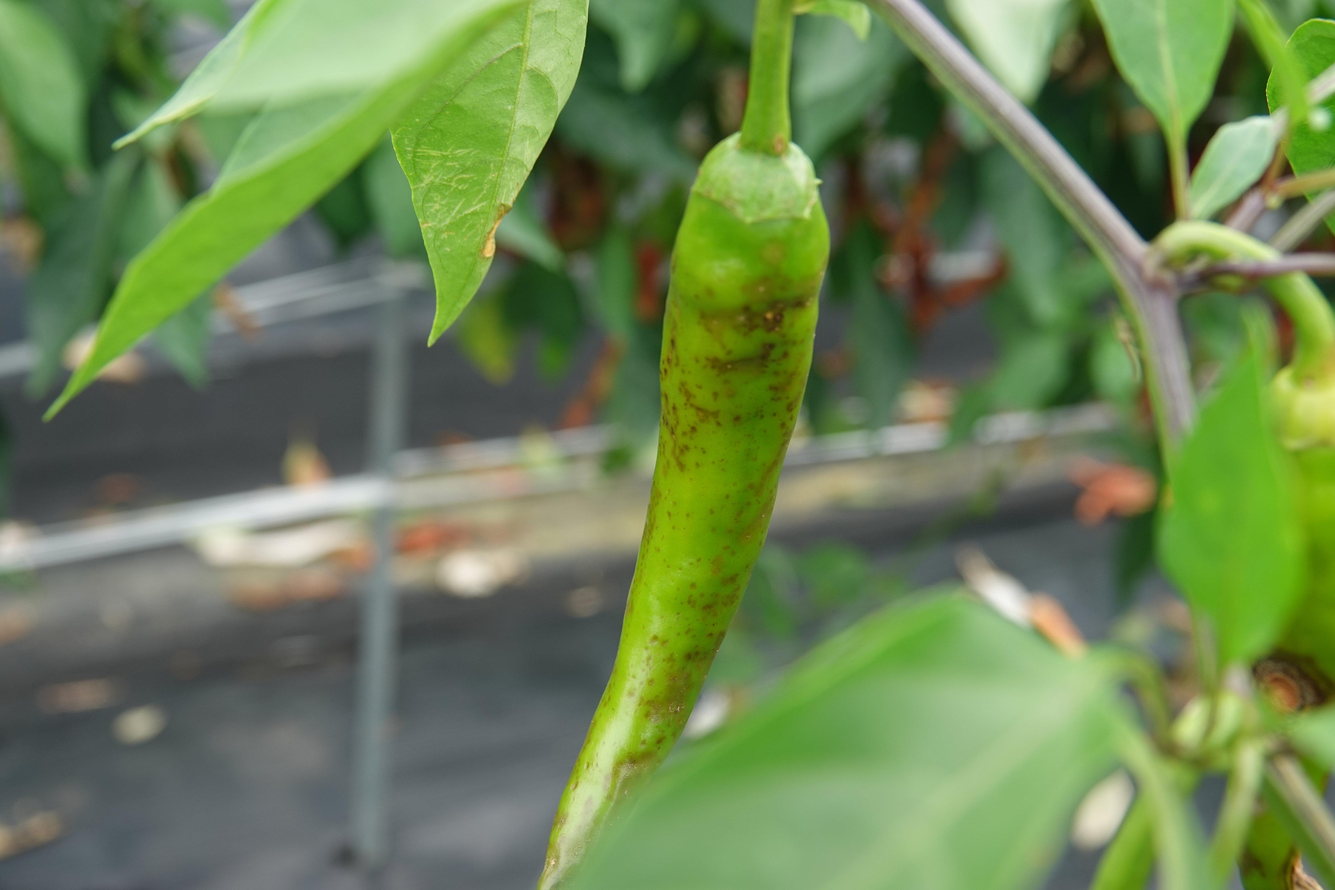Busuk Buah Antraknosa: (535, 128, 833, 886)
